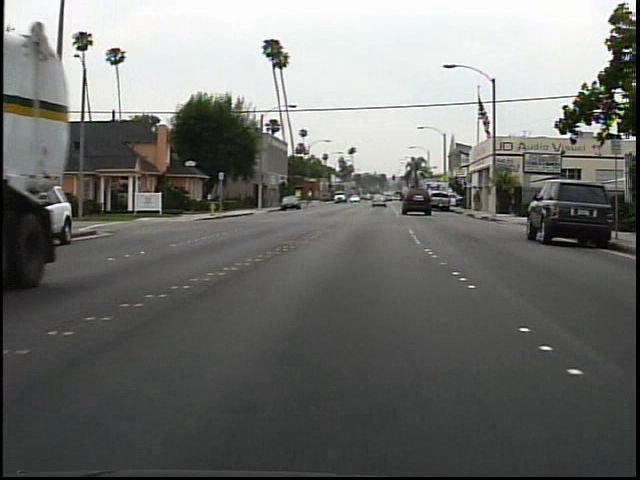person: (467, 187, 485, 216)
